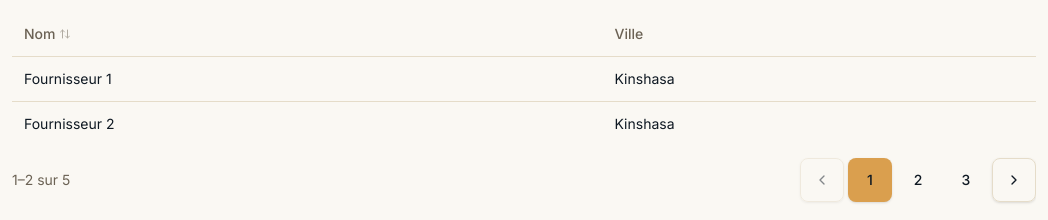
PremiumTable — DOM › pagination bornée : n'affiche que taillePage lignes par page
Expected: the text "Fournisseur 1" is shown, [12,56,602,102]
Expected: the text "Fournisseur 3" is not shown
Note: Navigation vers la page suivante : bornée par le composant Pagination interne.
Click the button named "Page suivante": (1014, 180) [992,158,1036,202]
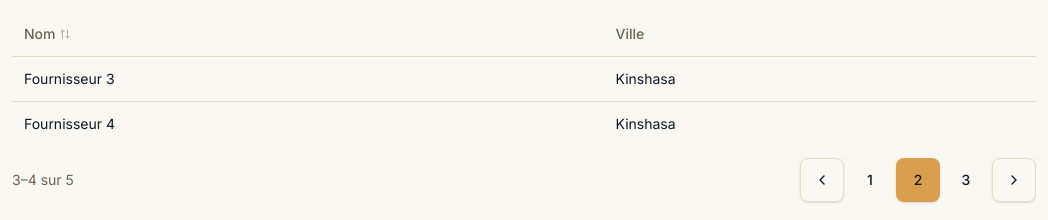
Now the text "Fournisseur 3" is shown, box [12,56,604,102]
